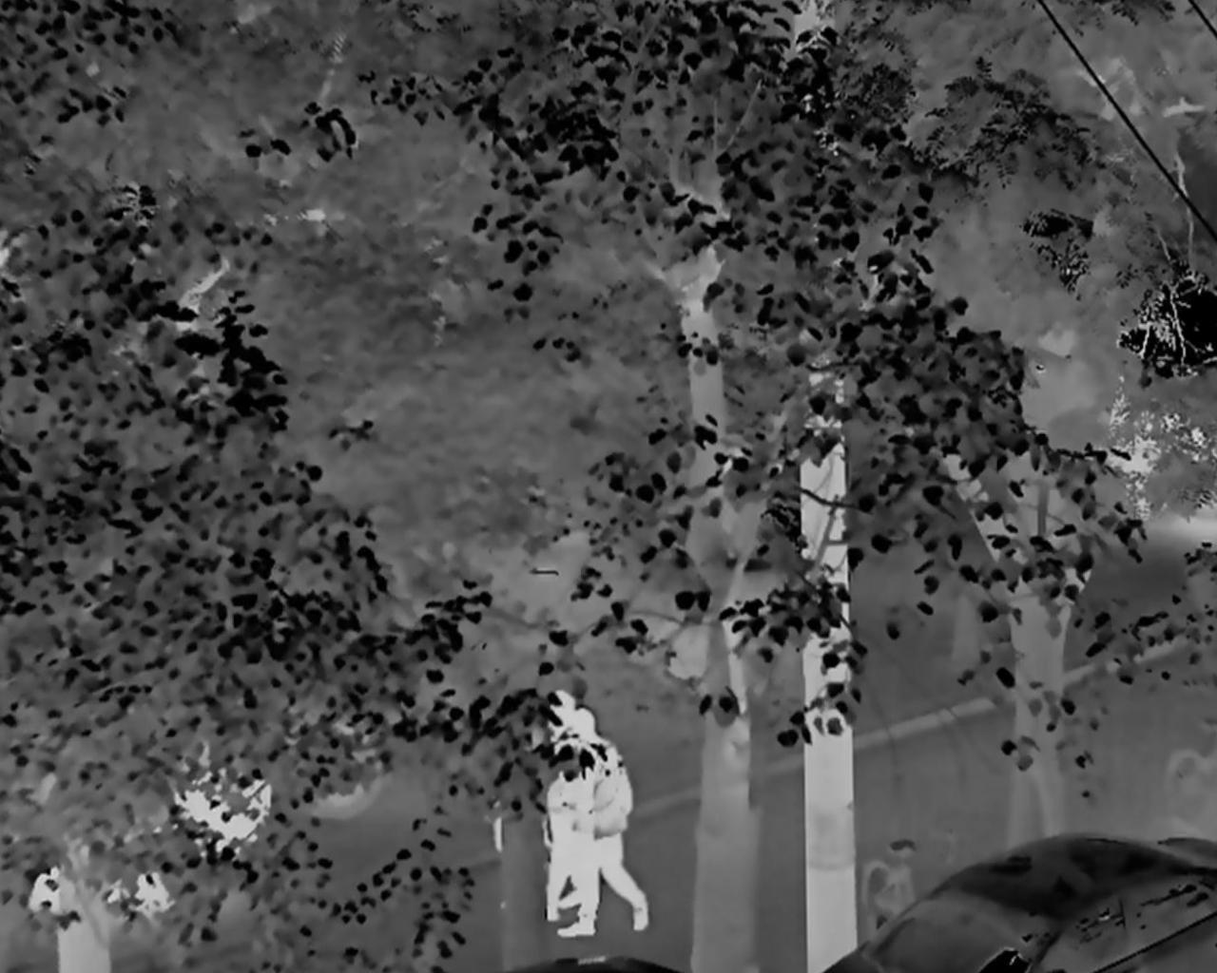person: (567, 711, 647, 946), (543, 693, 586, 921)
